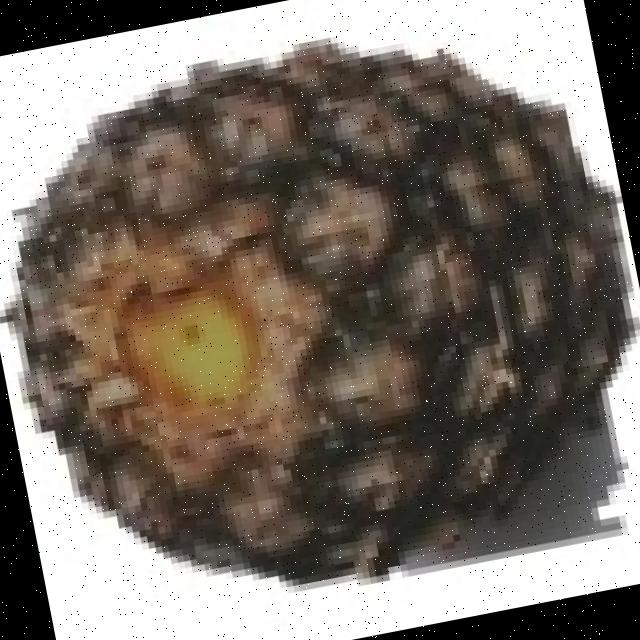pineapple: (4, 35, 619, 569)
